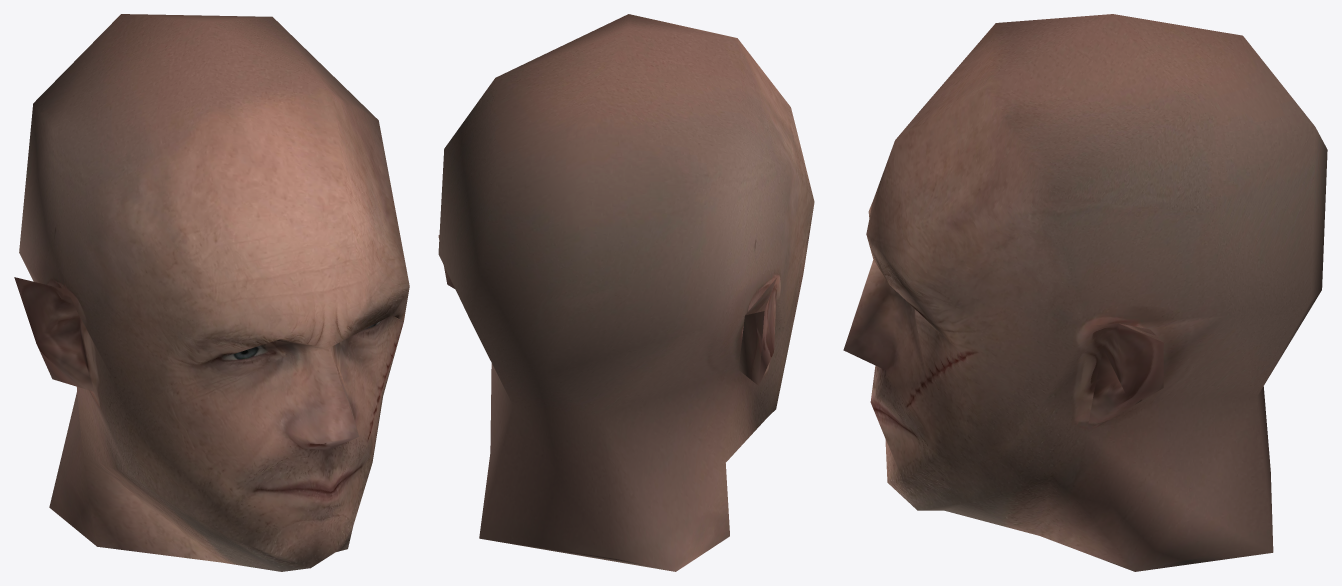
The model's file is head_200.glb.
3 renders of one model, left to right at view 1: azimuth 30°, elevation 25°; view 2: azimuth 150°, elevation 25°; view 3: azimuth 270°, elevation 25°, orthographic. The views are drawn at different scales.
Visible parts, largest first — view 1: mesh_node_Default; view 2: mesh_node_Default; view 3: mesh_node_Default.
Boxes of the visible parts, <box> form: mesh_node_Default: <box>14,14,409,571</box>; mesh_node_Default: <box>438,14,814,571</box>; mesh_node_Default: <box>843,14,1327,571</box>.
Size of the model in its own units: 0.9931 by 1.39 by 1.2.
1 material, 1 textured.
